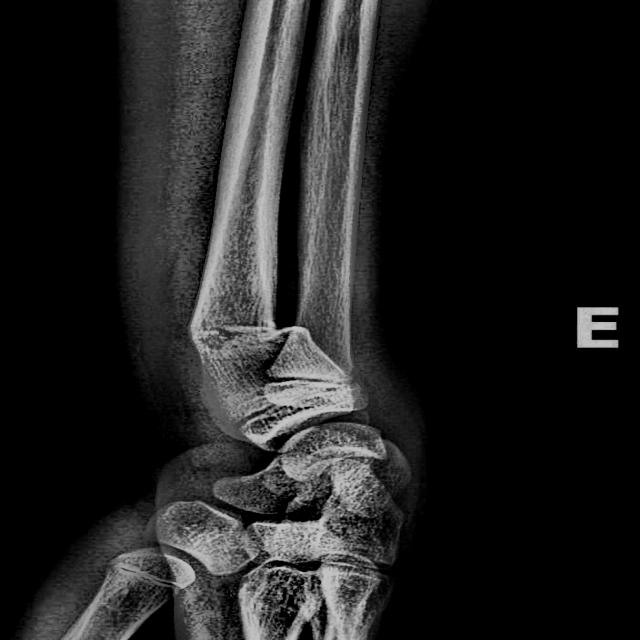line: (188, 323, 276, 343)
